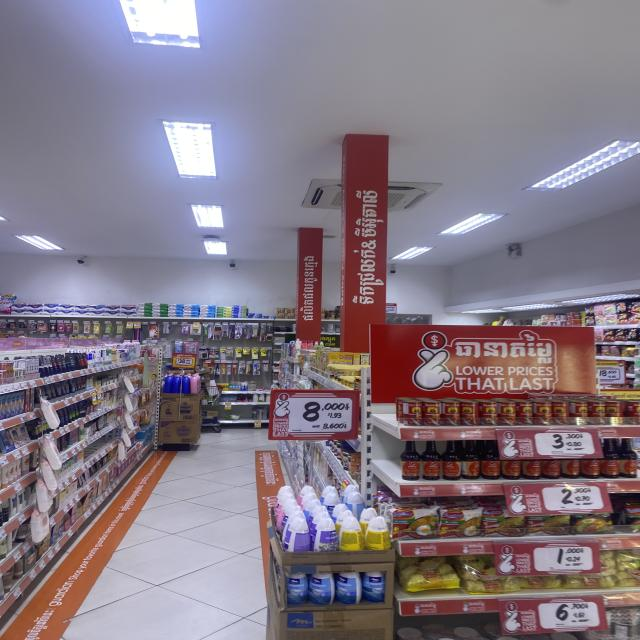1: (351, 187, 388, 309)
106: (327, 411, 344, 419)
145: (564, 433, 580, 440)
158: (574, 487, 588, 494), (185, 359, 192, 362)
172: (569, 602, 586, 610)
195: (566, 556, 581, 563)
201: (575, 495, 592, 503)
204: (566, 441, 583, 447)
503: (555, 545, 564, 565)
616: (599, 369, 607, 377)
631: (559, 487, 575, 506)
702: (551, 432, 567, 451)
710: (149, 357, 155, 361)
732: (178, 359, 185, 364)
797: (553, 603, 571, 621)
803: (605, 369, 618, 375)
838: (296, 397, 321, 423)
842: (322, 422, 345, 430)
89: (319, 397, 345, 411), (564, 547, 581, 554)
893: (345, 402, 349, 410), (186, 362, 191, 364)
Yolov11kh: (453, 330, 554, 365), (300, 254, 320, 323), (21, 605, 60, 640), (428, 333, 440, 345), (273, 417, 290, 422), (507, 602, 517, 609), (585, 602, 591, 609), (503, 547, 511, 552), (587, 487, 593, 493), (507, 432, 513, 438), (513, 487, 520, 492), (281, 394, 286, 399), (343, 423, 347, 429), (177, 359, 180, 362)
